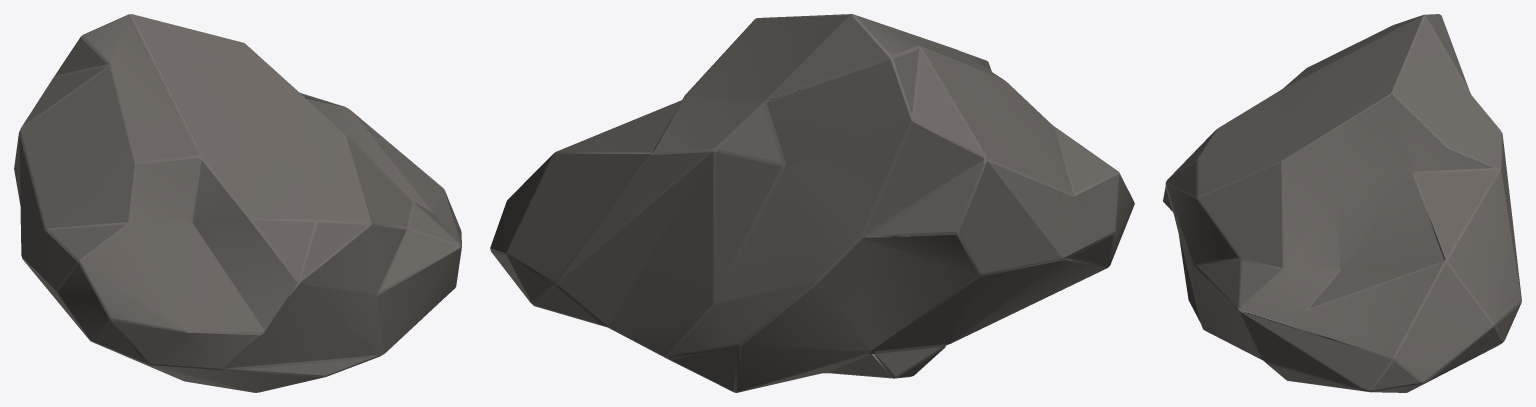
File: Rock02.FBX
The picture shows the model from 3 angles, left to right: view 1: azimuth 30°, elevation 25°; view 2: azimuth 150°, elevation 25°; view 3: azimuth 270°, elevation 25°; orthographic projection. The views are drawn at different scales.
Parts seen in each view (by area): view 1: rock_big_02; view 2: rock_big_02; view 3: rock_big_02.
Boxes of the visible parts, x1=… form: rock_big_02: x1=14, y1=14, x2=461, y2=392; rock_big_02: x1=490, y1=14, x2=1134, y2=392; rock_big_02: x1=1163, y1=14, x2=1521, y2=392.
Bounding box in the file's own units: 15.29 × 11.83 × 10.15.
